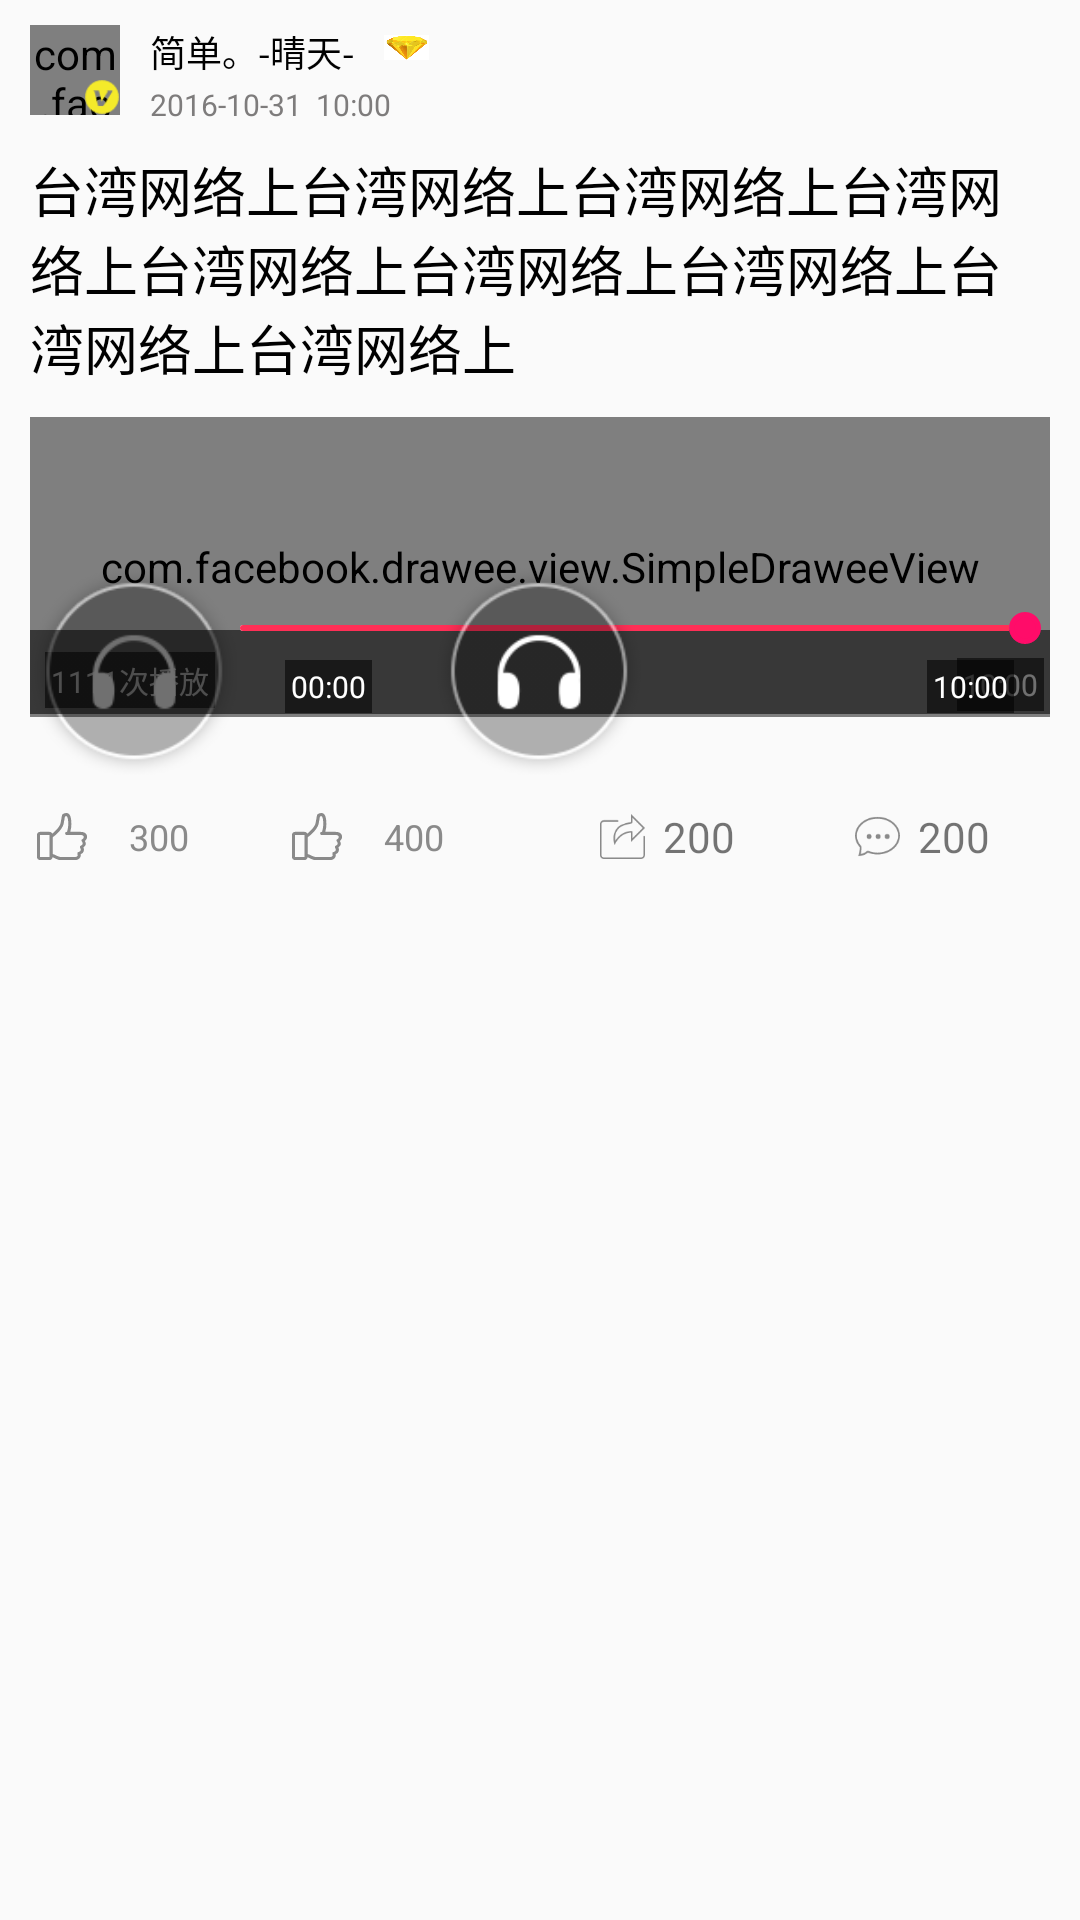

Named icons in this screenshot (1080*1920) and their bounding boxes, (x1, y1, x2, y2):
fenxiang: (600, 814, 645, 859)
pinglun: (855, 817, 900, 856)
zuanshi: (386, 36, 427, 60)
